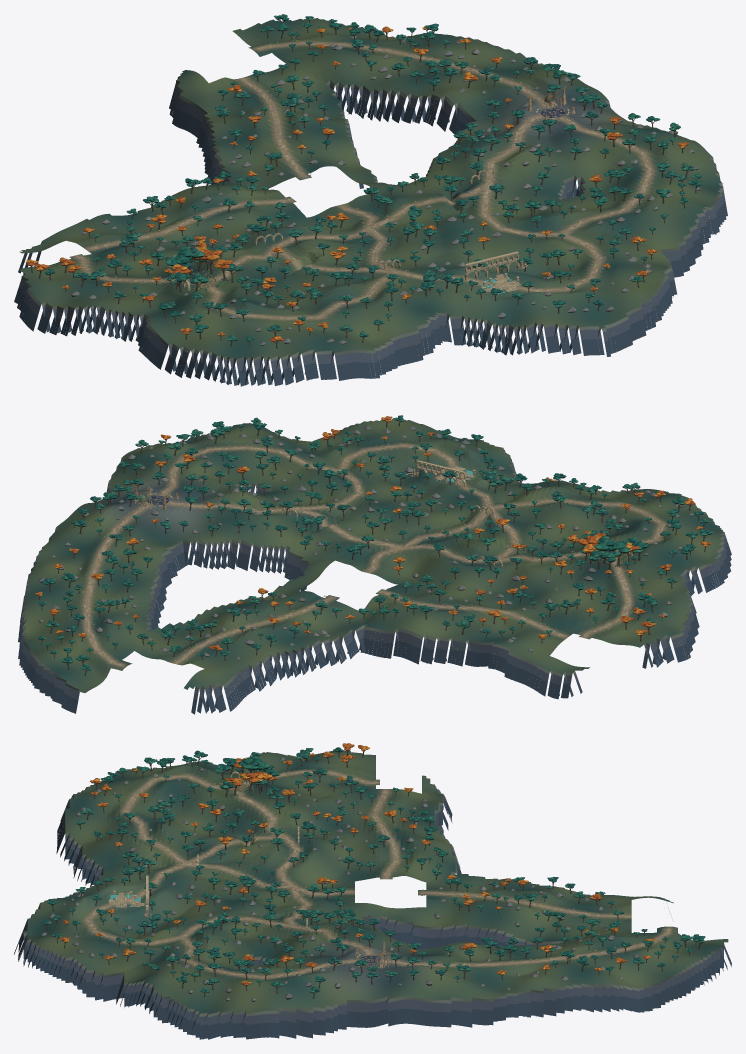
Rendered from outer_land.glb.
3 renders of one model, top to bottom at view 1: azimuth 30°, elevation 25°; view 2: azimuth 150°, elevation 25°; view 3: azimuth 270°, elevation 25°, orthographic. The views are drawn at different scales.
Visible parts, largest first — view 1: Ground_14_14-col, Ground_7_15-col, Detail_10_16, Ground_12_11-col, Ground_14_12-col, Ground_11_16-col, Ground_8_15-col, Ground_13_14-col, Ground_12_14-col, Ground_5_15-col, Ground_11_13-col, Ground_5_14-col (+118 smaller); view 2: Detail_8_8, Ground_12_10-col, Ground_6_11-col, Ground_12_4-col, Detail_7_8, Ground_7_11-col, Ground_9_11-col, Ground_14_8-col, Ground_12_5-col, Detail_12_10, Ground_10_12-col, Ground_5_10-col (+118 smaller); view 3: Detail_15_9, Detail_15_10, Detail_15_8, Ground_15_13-col, Ground_6_13-col, Detail_16_11, Ground_15_9-col, Detail_16_12, Ground_15_10-col, Ground_11_7-col, Detail_13_15, Detail_14_5 (+110 smaller).
Boxes of the visible parts, box(x1,y1,x2,y2) form: Ground_14_14-col: box(635, 193, 703, 243); Ground_7_15-col: box(322, 302, 397, 342); Detail_10_16: box(497, 292, 567, 355); Ground_12_11-col: box(453, 153, 529, 194); Ground_14_12-col: box(578, 146, 654, 194); Ground_11_16-col: box(545, 285, 621, 325); Ground_8_15-col: box(370, 293, 436, 335); Ground_13_14-col: box(586, 209, 662, 248); Ground_12_14-col: box(537, 226, 612, 270); Ground_5_15-col: box(224, 322, 300, 358); Ground_11_13-col: box(460, 218, 536, 262); Ground_5_14-col: box(196, 298, 271, 341); Detail_8_8: box(346, 607, 404, 659); Ground_12_10-col: box(216, 510, 286, 546); Ground_6_11-col: box(509, 565, 578, 599); Ground_12_4-col: box(65, 635, 131, 677); Detail_7_8: box(400, 609, 455, 664); Ground_7_11-col: box(465, 560, 534, 595); Ground_9_11-col: box(376, 543, 444, 579); Ground_14_8-col: box(76, 516, 145, 558); Ground_12_5-col: box(88, 611, 157, 652); Detail_12_10: box(217, 499, 281, 571); Ground_10_12-col: box(357, 505, 426, 542); Ground_5_10-col: box(528, 600, 597, 636); Detail_15_9: box(384, 957, 437, 1026); Detail_15_10: box(334, 960, 387, 1029); Detail_15_8: box(434, 962, 485, 1027); Ground_15_13-col: box(183, 976, 233, 1013); Ground_6_13-col: box(183, 787, 233, 824); Detail_16_11: box(283, 990, 333, 1038); Ground_15_9-col: box(384, 966, 434, 999); Detail_16_12: box(233, 983, 287, 1039); Ground_15_10-col: box(334, 971, 384, 1004); Ground_11_7-col: box(485, 906, 535, 941); Detail_13_15: box(82, 938, 134, 1001); Detail_14_5: box(585, 956, 635, 1012).
Bounding box in the file's own units: 481 × 60.99 × 513.
